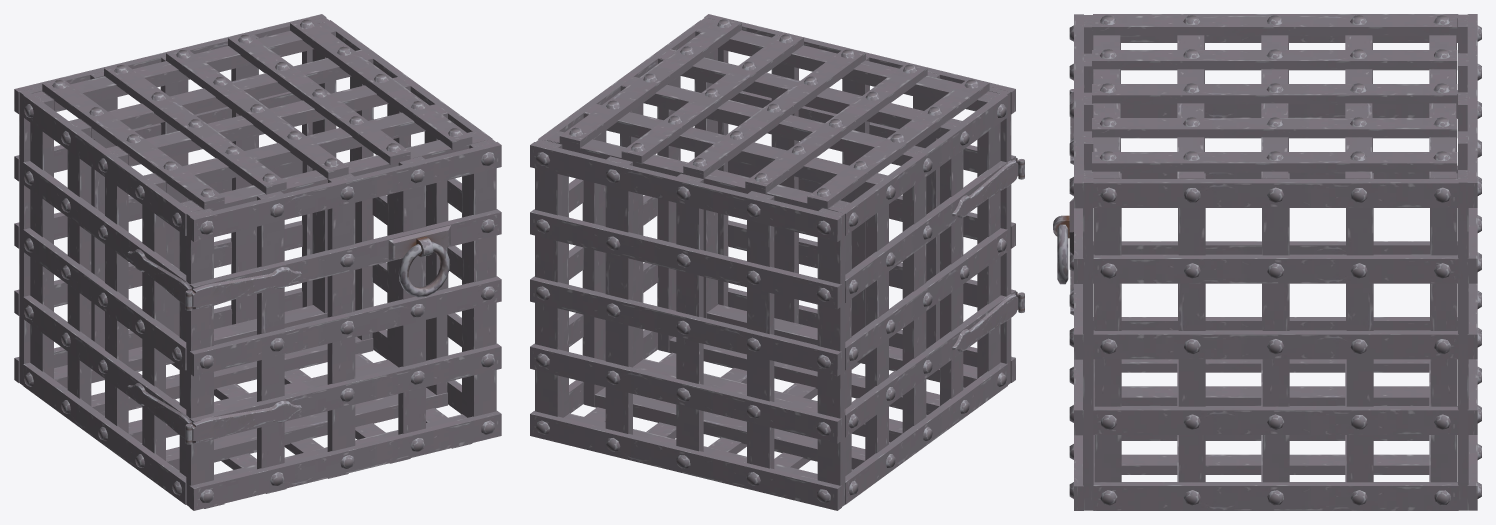
Rendered from Cage_Small.gltf.
3 views of the same model, side by side, from view 1: azimuth 30°, elevation 25°; view 2: azimuth 150°, elevation 25°; view 3: azimuth 270°, elevation 25° (orthographic). The views are drawn at different scales.
Parts seen in each view (by area): view 1: Cage_Small; view 2: Cage_Small; view 3: Cage_Small.
Boxes of the visible parts, bbox=[...] form: Cage_Small: bbox=[14, 14, 501, 510]; Cage_Small: bbox=[530, 14, 1024, 510]; Cage_Small: bbox=[1053, 14, 1481, 510].
Bounding box in the file's own units: 0.8549 × 0.8052 × 0.8843.
Materials: 1 (1 with a texture image).
